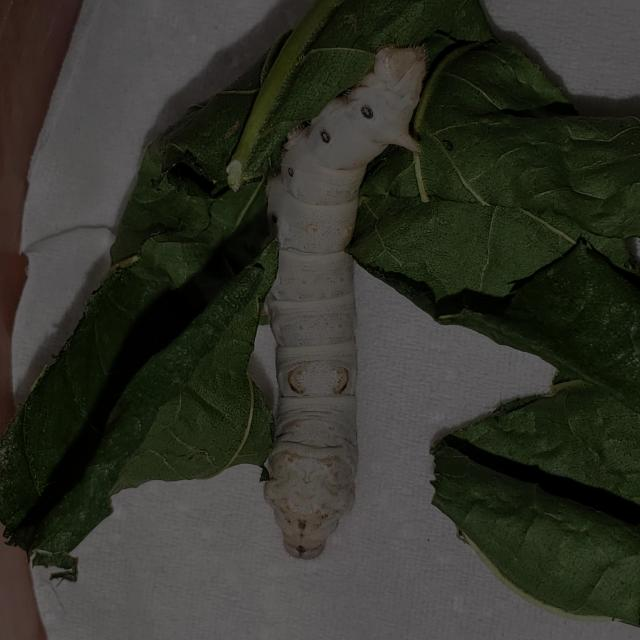Healthy: (249, 39, 439, 566)
